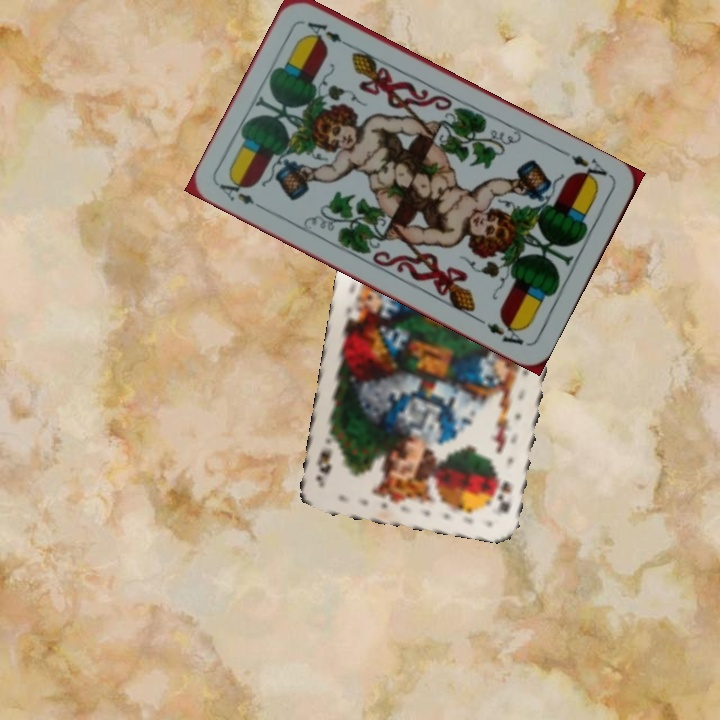EA: (215, 175, 270, 214), (567, 151, 610, 187)
SK: (491, 477, 514, 516)
